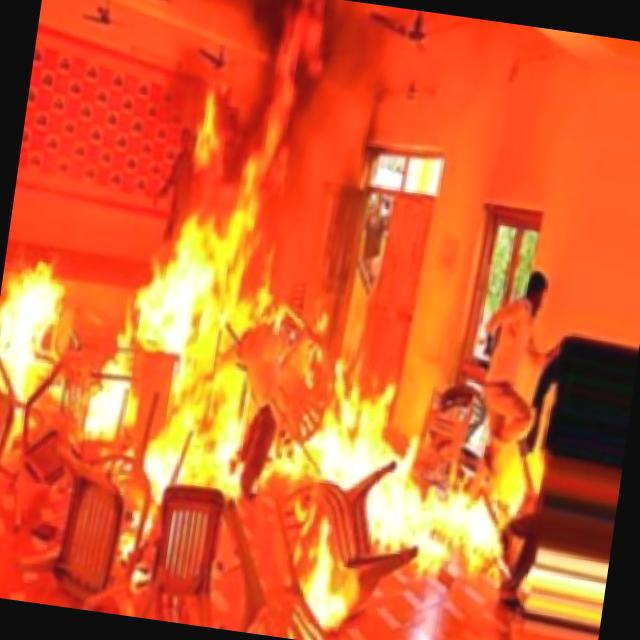fire: (0, 229, 449, 587)
